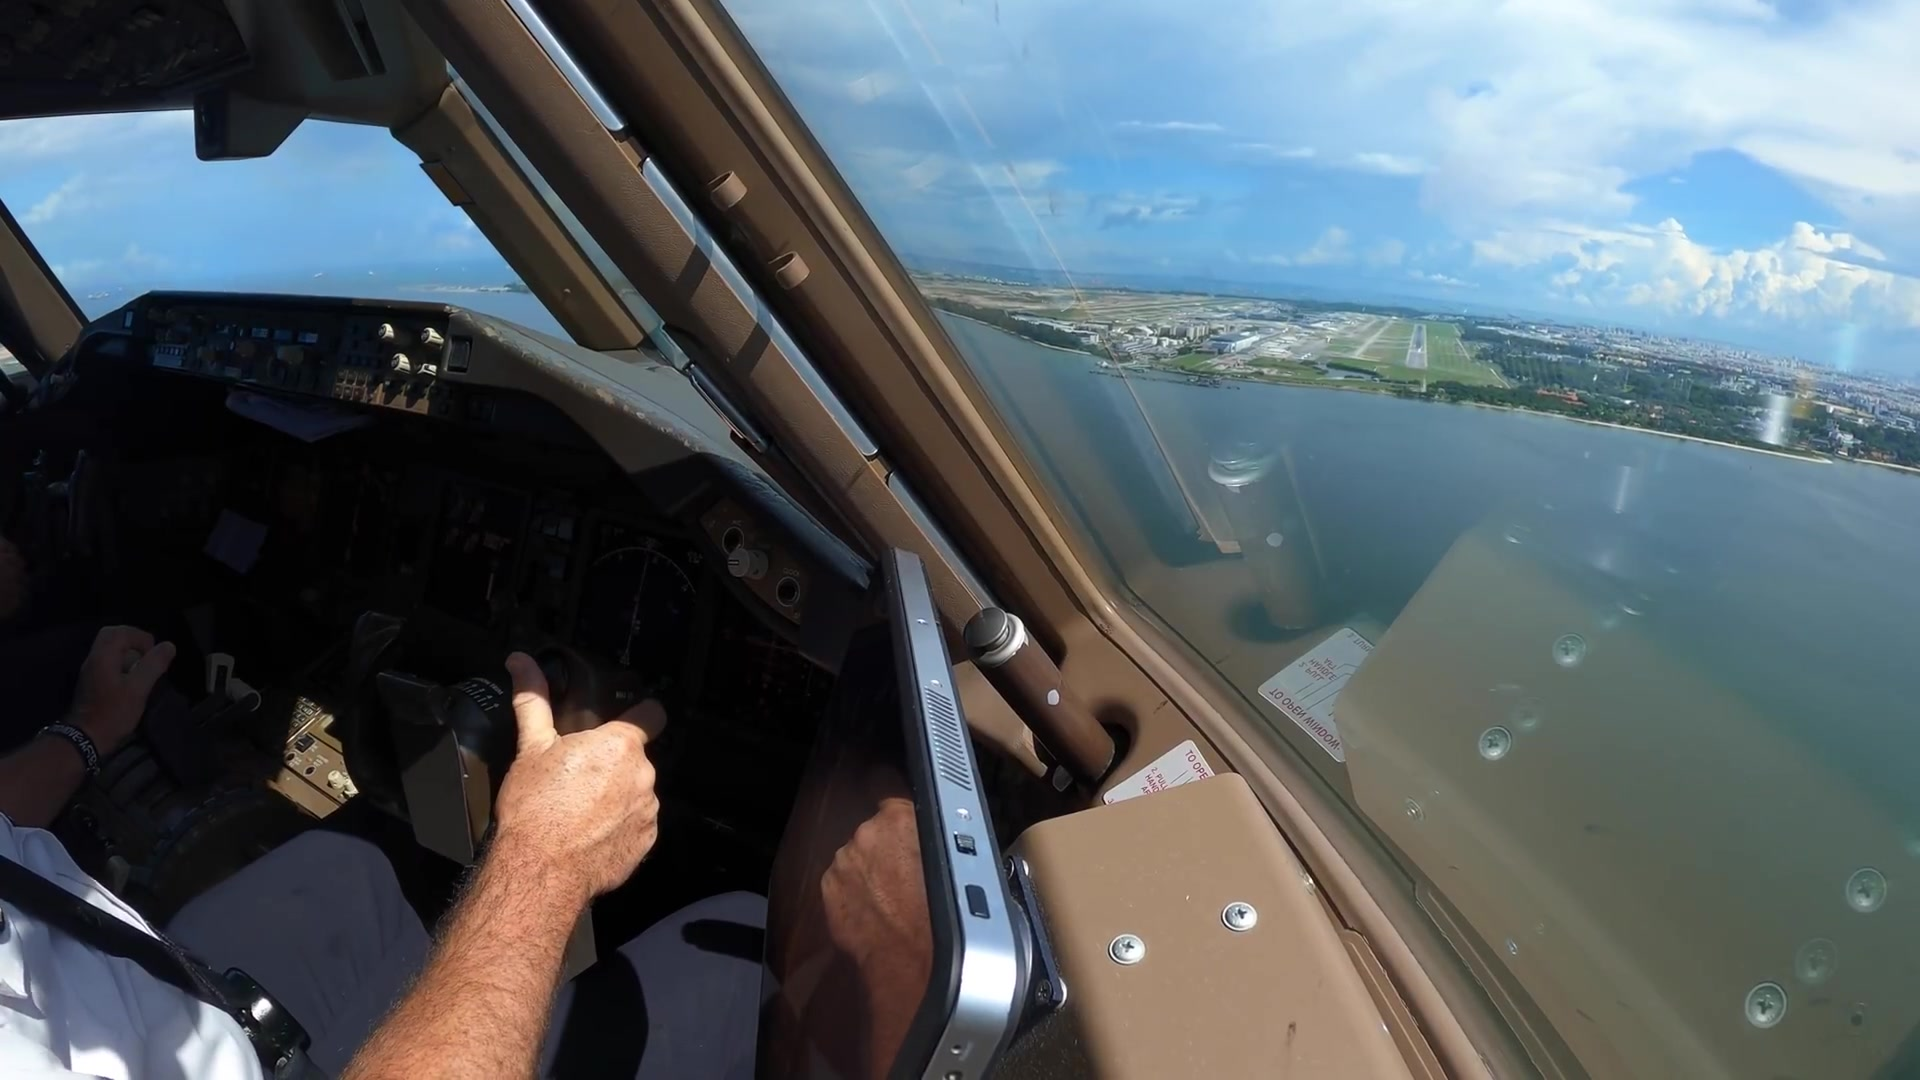runway: (1402, 322, 1431, 369)
